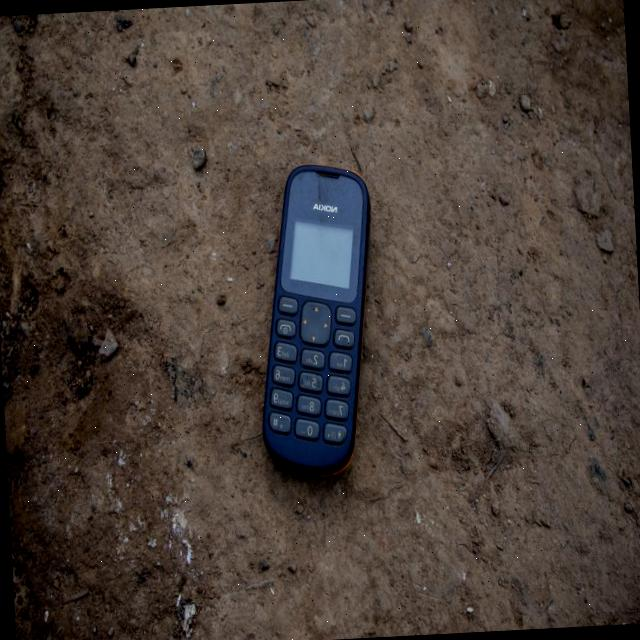Phone: (251, 159, 383, 476)
